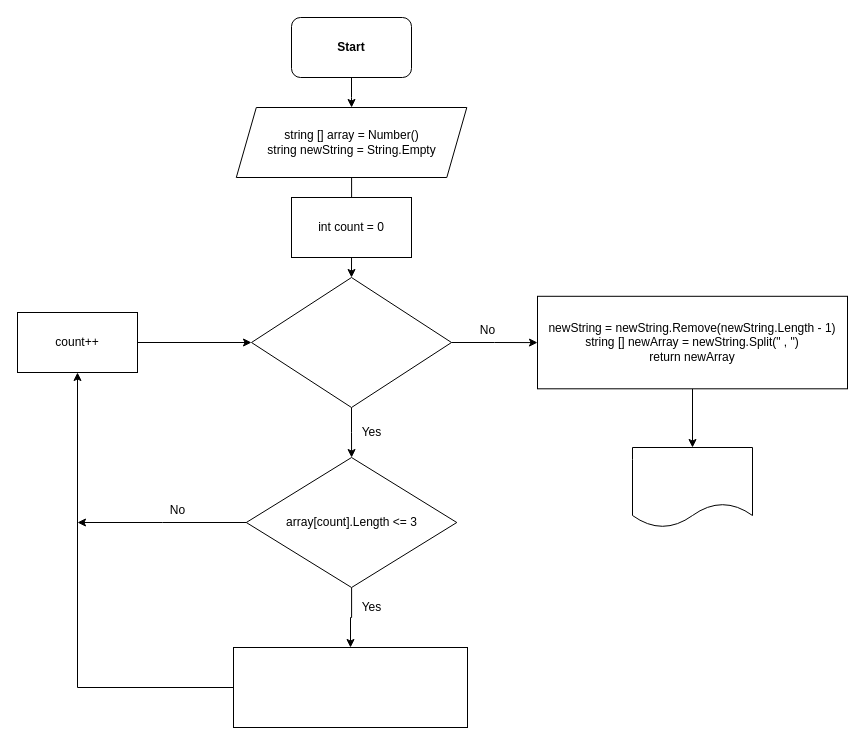
The diagram is 865 pixels wide and 745 high, and some of its shapes have lost their labels. Here are the shapes that lost their labels. From the top down, the box of each, then its label:
(250, 276, 452, 408): count < array.Length
(632, 446, 752, 528): End
(232, 646, 468, 728): newString = newString + array[count] + " , "
